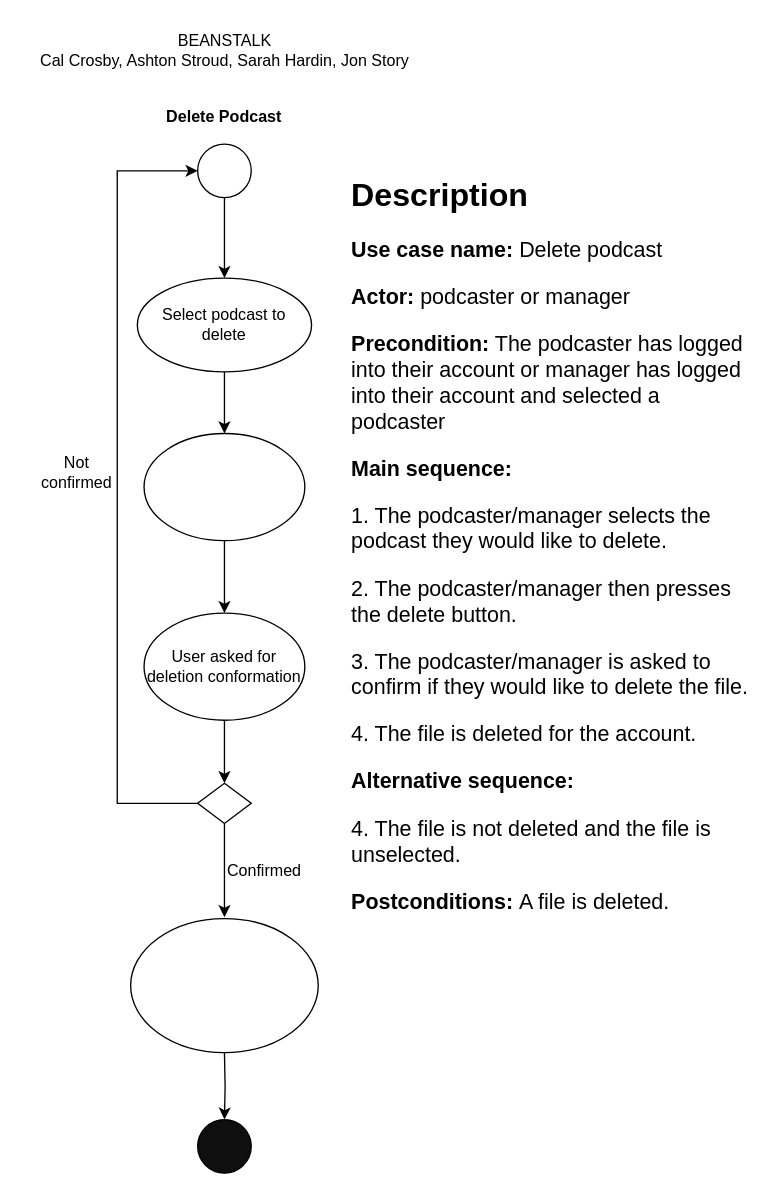
The diagram is 783 pixels wide and 1197 high, and some of its shapes have lost their labels. The shapes that lost their labels are listed below. From the top down, each one's centre as x and y in pixels, then its label:
At point 224,486: "Press Delete Icon".
At point 223,985: "Remove podcast from account files".
